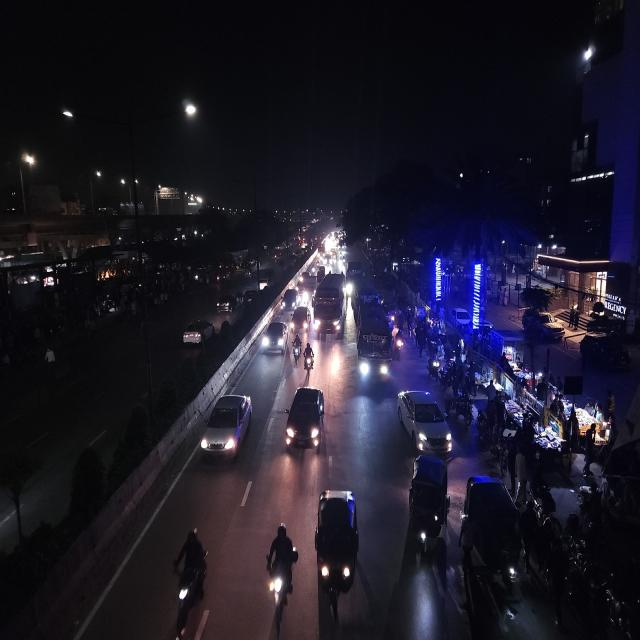bus: (353, 293, 393, 394), (313, 271, 347, 341), (346, 260, 362, 290)
car: (198, 390, 254, 469), (397, 387, 454, 455), (284, 384, 326, 457), (260, 315, 289, 358), (180, 316, 214, 351), (450, 304, 472, 334), (290, 305, 310, 334), (280, 287, 300, 314), (215, 292, 237, 314), (257, 270, 271, 293)
cng: (461, 474, 523, 596), (313, 486, 361, 612), (406, 451, 451, 563), (290, 304, 310, 334)
motorcycle: (167, 524, 211, 636), (262, 520, 300, 633), (392, 326, 405, 358), (302, 342, 314, 375), (292, 332, 302, 366), (296, 274, 304, 293)
pedestrian: (416, 326, 426, 358)
truck: (257, 270, 271, 294)
